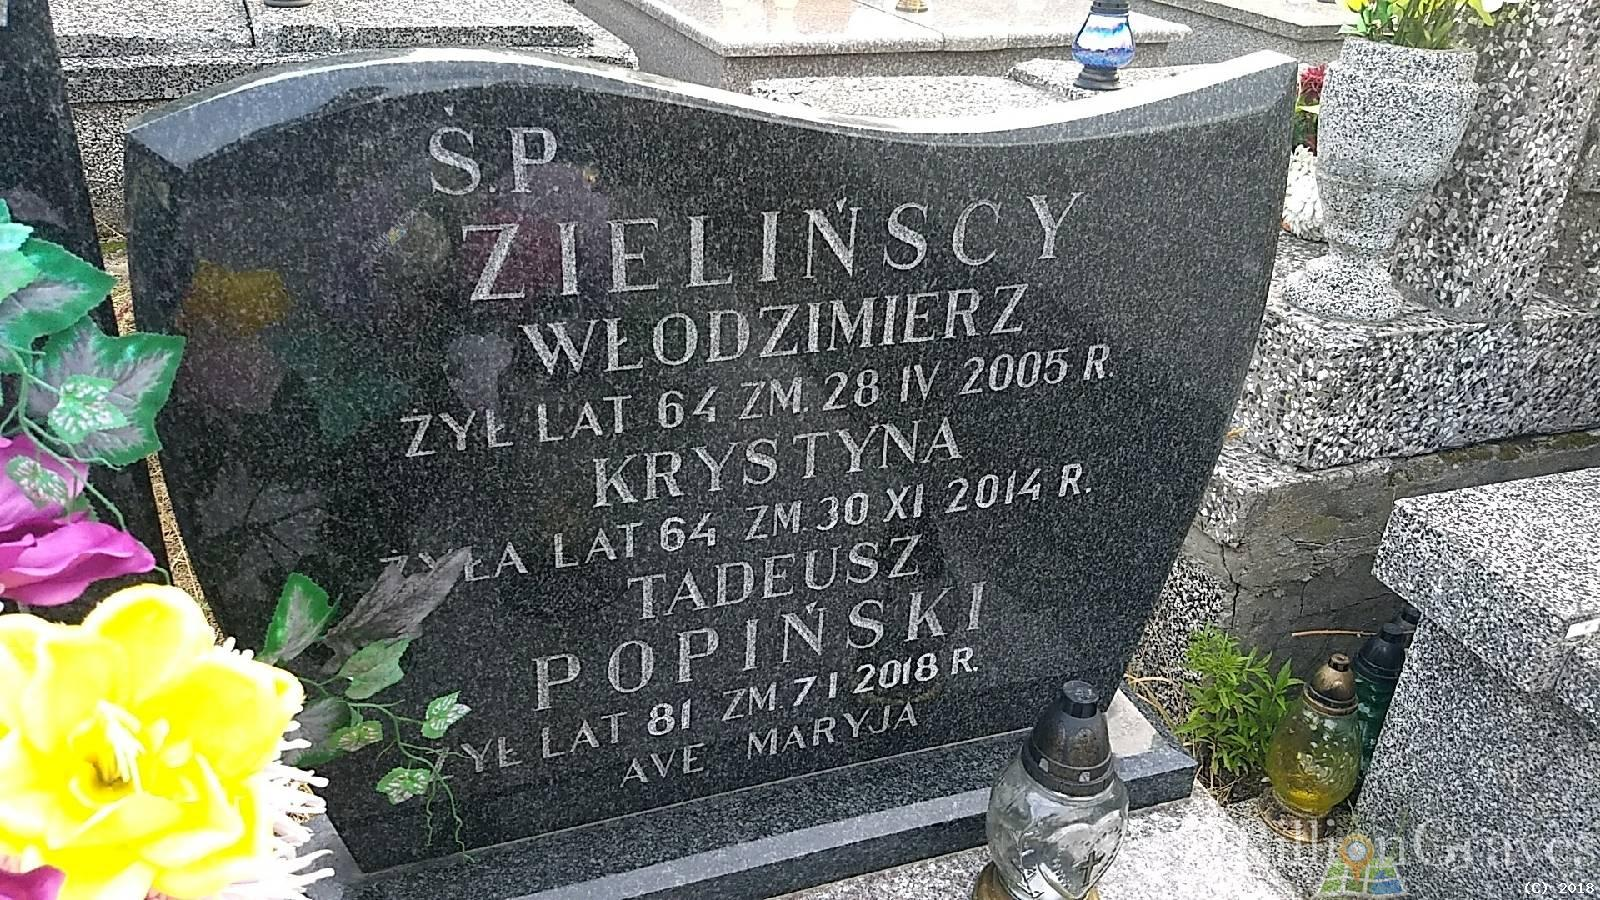upright: (115, 43, 1300, 900)
